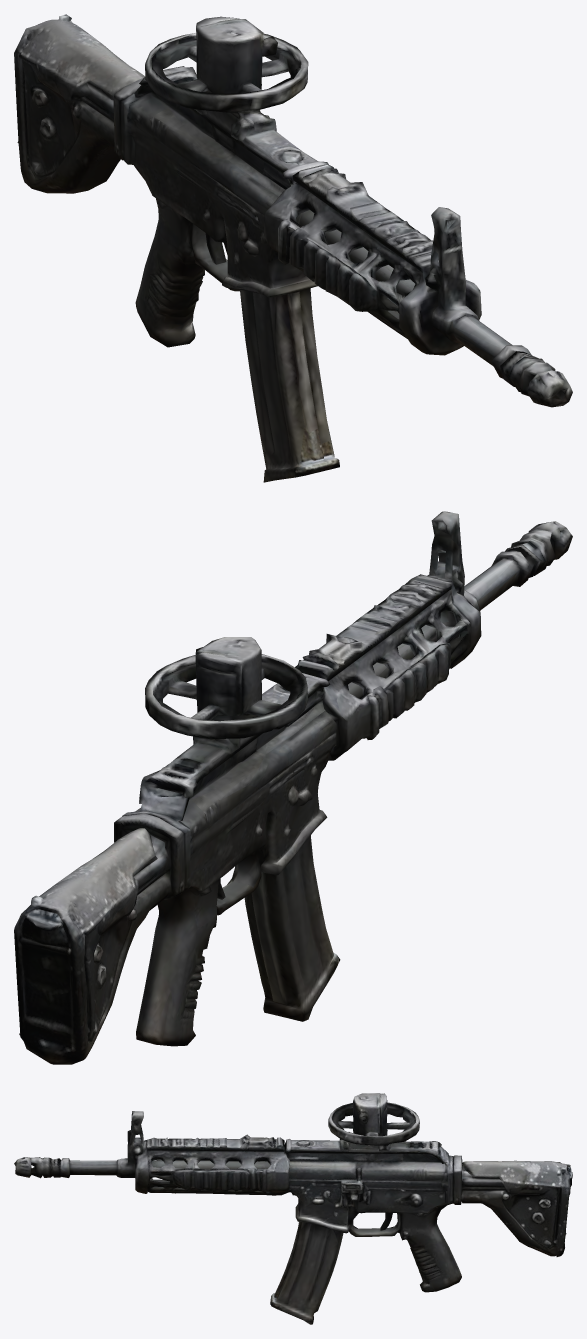
File: tr_rifle.glb
3 views of the same model, one above another, from view 1: azimuth 30°, elevation 25°; view 2: azimuth 150°, elevation 25°; view 3: azimuth 270°, elevation 25° (orthographic). The views are drawn at different scales.
Visible parts, largest first — view 1: tripo_node_dd594f3c-ddea-4cfd-ae3a-ad3c464c9beb; view 2: tripo_node_dd594f3c-ddea-4cfd-ae3a-ad3c464c9beb; view 3: tripo_node_dd594f3c-ddea-4cfd-ae3a-ad3c464c9beb.
Part boxes in pixels (<box>): tripo_node_dd594f3c-ddea-4cfd-ae3a-ad3c464c9beb: <box>14,14,572,482</box>; tripo_node_dd594f3c-ddea-4cfd-ae3a-ad3c464c9beb: <box>14,511,572,1064</box>; tripo_node_dd594f3c-ddea-4cfd-ae3a-ad3c464c9beb: <box>14,1093,572,1324</box>.
Bounding box in the file's own units: 0.1526 × 0.428 × 0.9805.
1 material, 1 textured.
